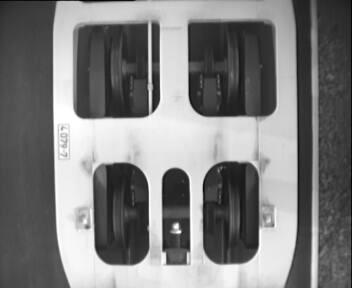Copy of Copy of Copy of Copy of wagon_scan: (82, 156, 268, 274)
